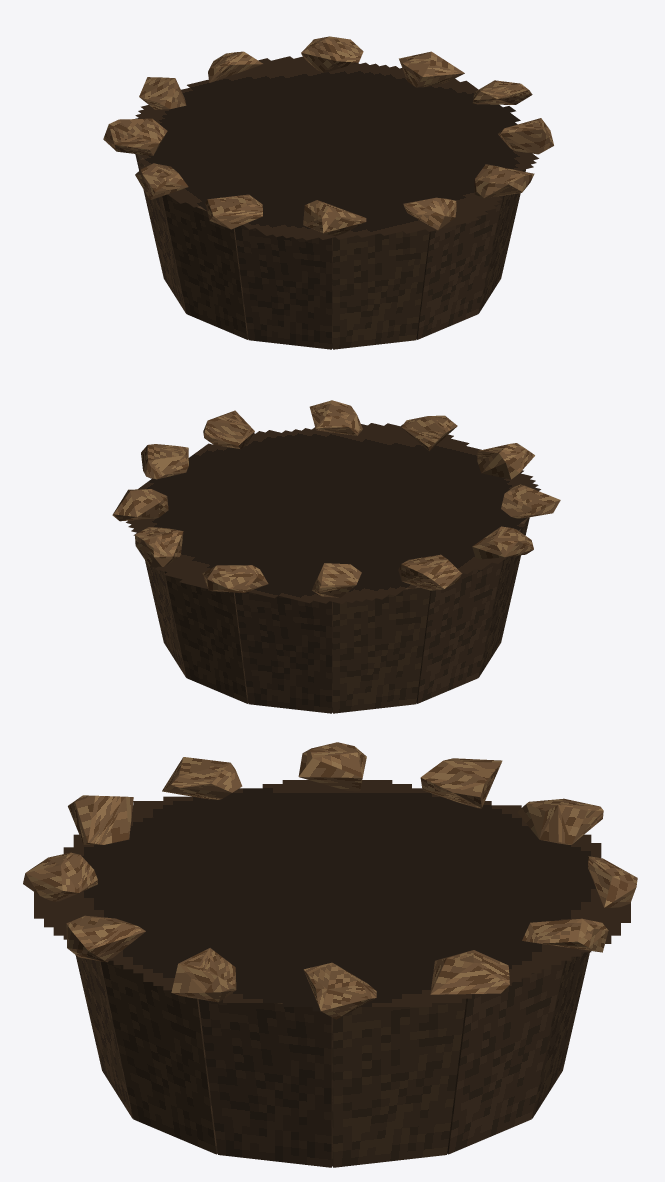
Rendered from tr_pit.glb.
The picture shows the model from 3 angles, top to bottom: view 1: azimuth 30°, elevation 25°; view 2: azimuth 150°, elevation 25°; view 3: azimuth 270°, elevation 25°; orthographic projection. The views are drawn at different scales.
Visible parts, largest first — view 1: block_hole, block_pit wall (×6), block_rim (×12); view 2: block_hole, block_pit wall (×6), block_rim (×12); view 3: block_hole, block_pit wall (×6), block_rim (×12).
Boxes of the visible parts, x1,y1,x2,y2 form: block_hole: (135,56,538,240); block_pit wall (×6): (135,154,525,349); block_rim (×12): (103,36,553,236); block_hole: (126,423,540,603); block_pit wall (×6): (145,517,529,713); block_rim (×12): (112,400,560,597); block_hole: (34,780,630,1011); block_pit wall (×6): (75,952,589,1167); block_rim (×12): (23,742,637,1019).
Bounding box in the file's own units: 1 × 0.3737 × 1.
2 materials, 2 textured.
